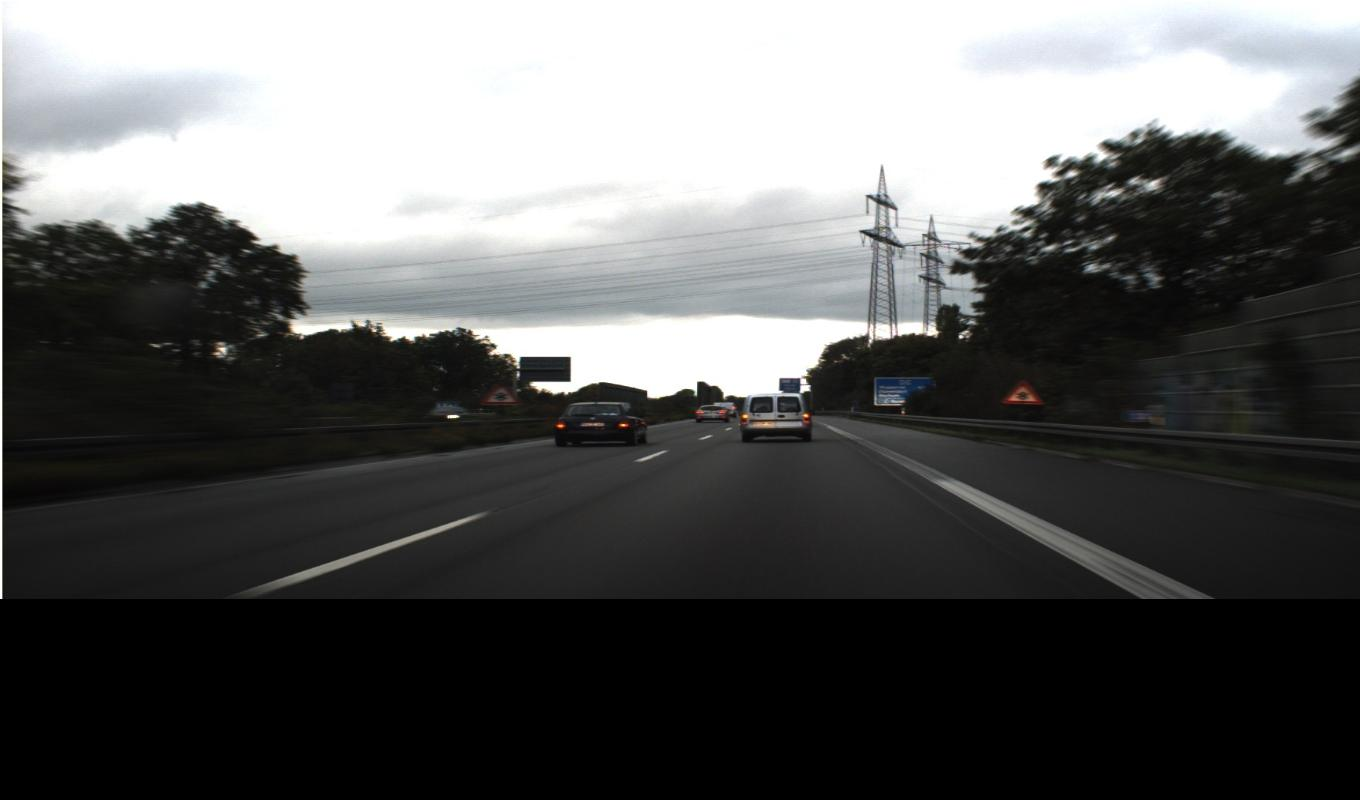snow: (479, 378, 1046, 405)
